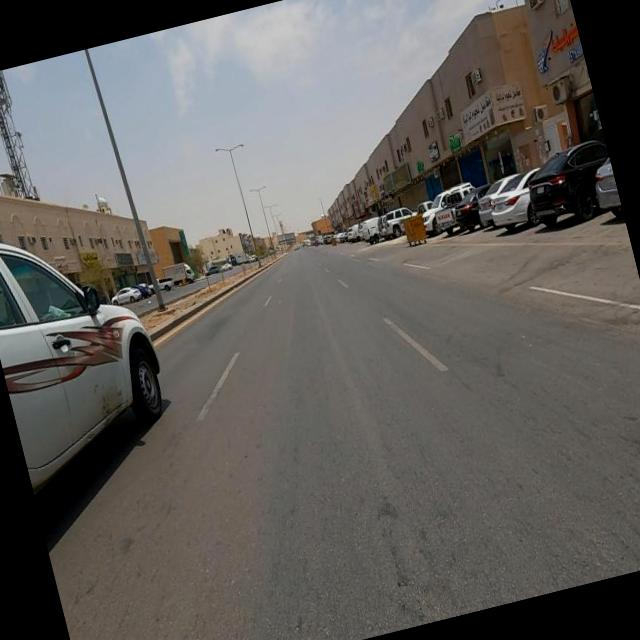debris: (369, 134, 431, 210), (360, 142, 414, 222)
